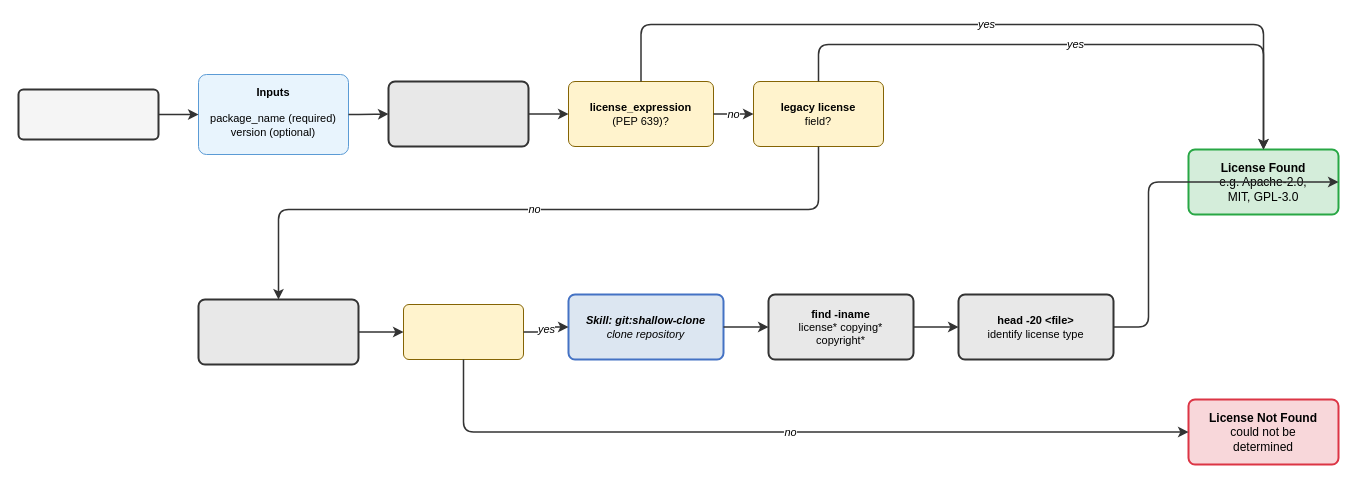
Image size: 1364x483. Some labels were removed from this diagram. Here are the shapes that lost their labels. From the top down, the centre of each, then its label:
At point (88, 114): "/python-packaging- license-finder".
At point (458, 113): "find_license.py fetch PyPI metadata".
At point (278, 331): "extract source repository URL from PyPI metadata".
At point (463, 332): "repo URL found?".
